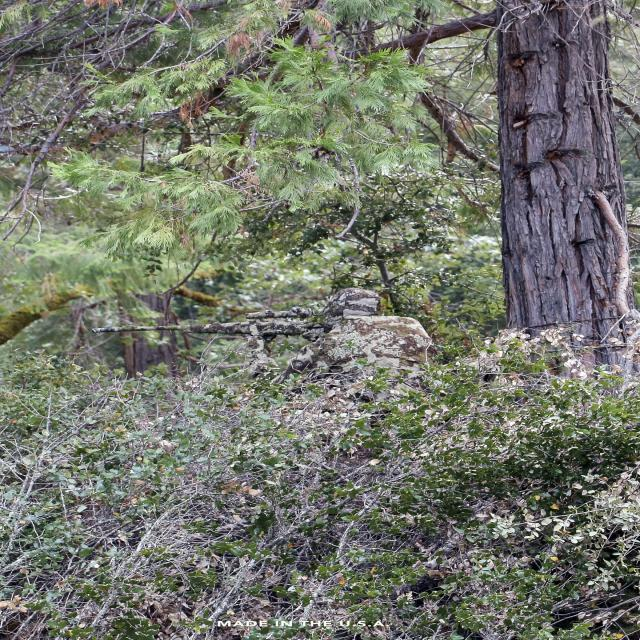Human: (91, 287, 430, 398)
